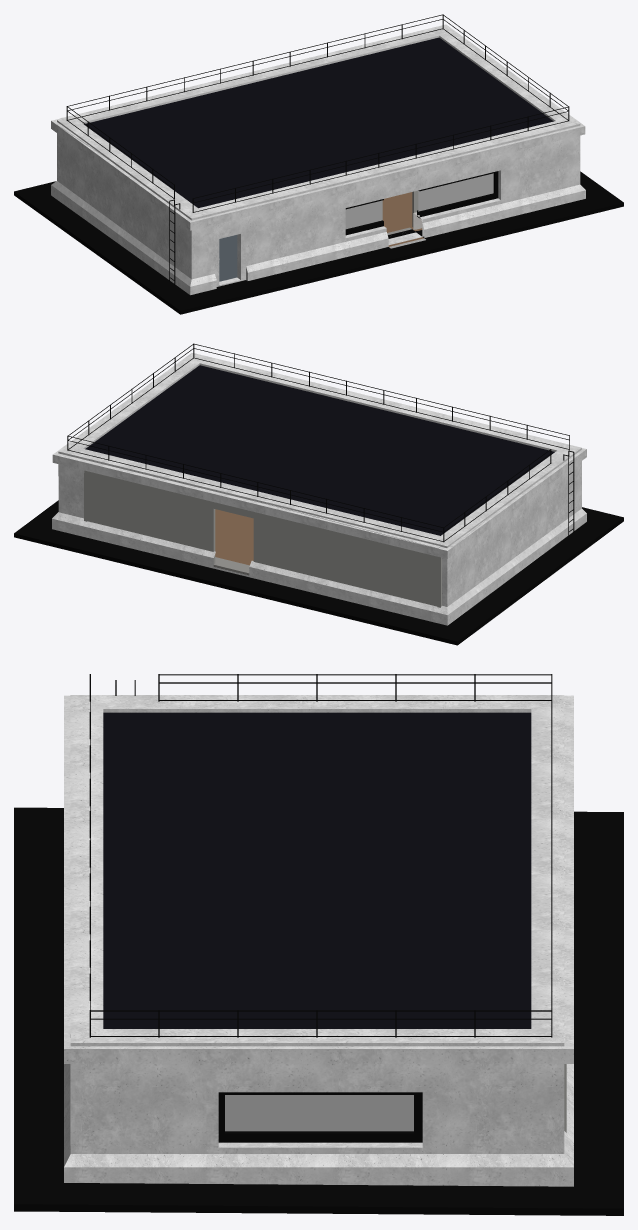
File: control-post.zfix-v14.lod0.glb
3 views of the same model, one above another, from view 1: azimuth 30°, elevation 25°; view 2: azimuth 150°, elevation 25°; view 3: azimuth 270°, elevation 25° (orthographic). The views are drawn at different scales.
Visible parts, largest first — view 1: Inner_Floor_Floor_1_0, Inner_Floor_Outer_Walls_0, Railing_Railing_0, window_1_window_0; view 2: Inner_Floor_Floor_1_0, Inner_Floor_Outer_Walls_0, Railing_Railing_0; view 3: Inner_Floor_Floor_1_0, Inner_Floor_Outer_Walls_0, Railing_Railing_0, window_1_window_0.
Part boxes in pixels (x1,y1,x2,y2): Inner_Floor_Floor_1_0: (14, 37, 623, 314); Inner_Floor_Outer_Walls_0: (51, 24, 585, 295); Railing_Railing_0: (66, 14, 569, 285); window_1_window_0: (345, 171, 498, 235); Inner_Floor_Floor_1_0: (14, 365, 623, 645); Inner_Floor_Outer_Walls_0: (52, 353, 586, 625); Railing_Railing_0: (67, 343, 574, 542); Inner_Floor_Floor_1_0: (14, 712, 623, 1215); Inner_Floor_Outer_Walls_0: (64, 695, 573, 1186); Railing_Railing_0: (89, 674, 552, 1037); window_1_window_0: (218, 1092, 422, 1142).
Size of the model in its own units: 19.9 by 4.09 by 12.93.
6 materials, 3 textured.
